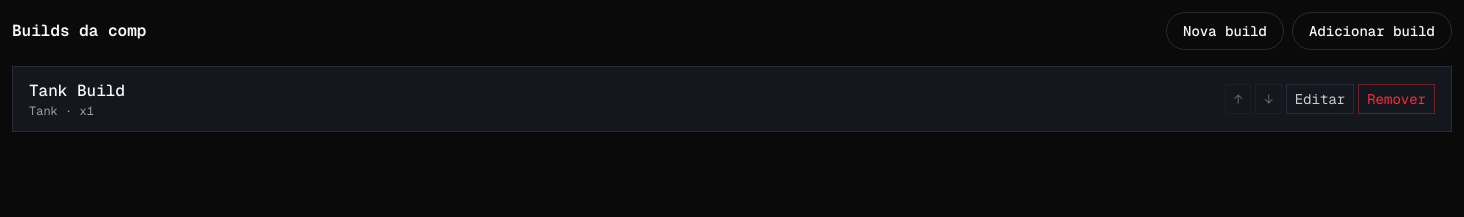
Test: CompBuildsManager (ACM-098) › AC#3 (error path): restores the entry and shows a retry banner when removal fails
Click the button "Remover" at (1397, 99), box [1358, 84, 1435, 114]
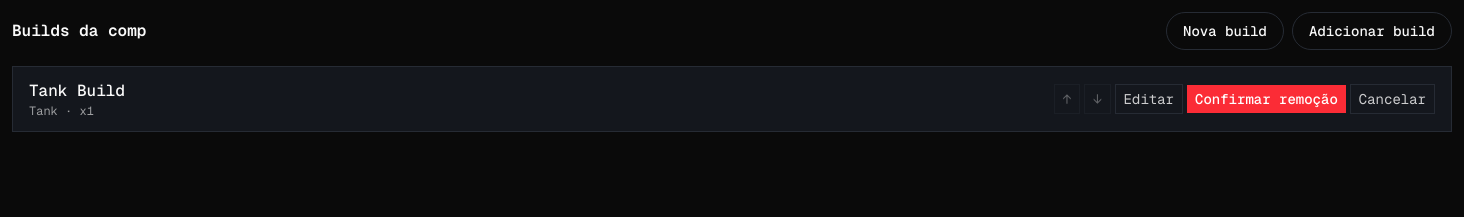
Click the button "Confirmar remoção" at (1266, 99), box [1187, 85, 1346, 113]
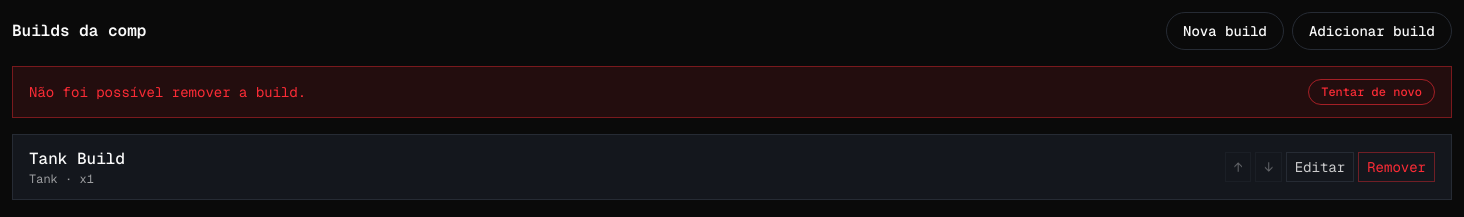
Expected: the text "Tank Build" is shown, [29, 147, 125, 171]
Now the text "Não foi possível remover a build." is shown, box [29, 82, 306, 102]
